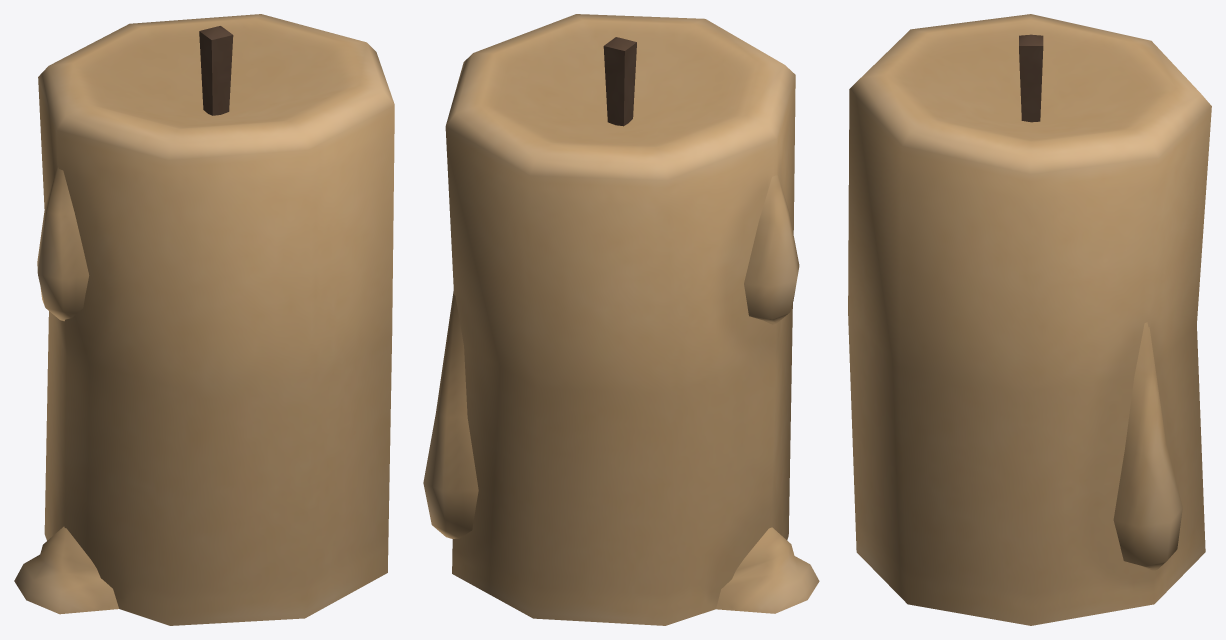
3 views of the same model, side by side, from view 1: azimuth 30°, elevation 25°; view 2: azimuth 150°, elevation 25°; view 3: azimuth 270°, elevation 25° (orthographic).
Visible parts, largest first — view 1: submesh_0; view 2: submesh_0; view 3: submesh_0.
Part boxes in pixels (x1,y1,x2,y2): submesh_0: [14, 14, 394, 625]; submesh_0: [423, 14, 819, 625]; submesh_0: [848, 14, 1211, 625].
Bounding box in the file's own units: 0.1761 × 0.2529 × 0.1611.
Materials: 1 (1 with a texture image).
